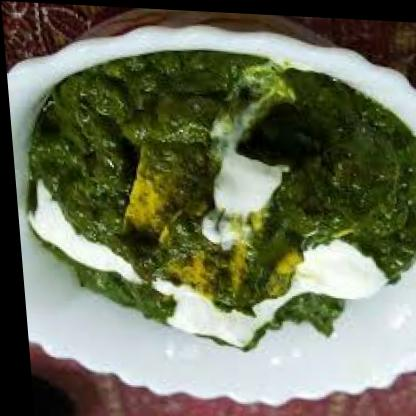palak_paneer: (10, 41, 416, 357)
